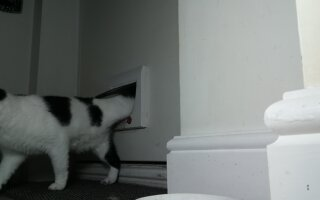bad: (3, 87, 130, 192)
